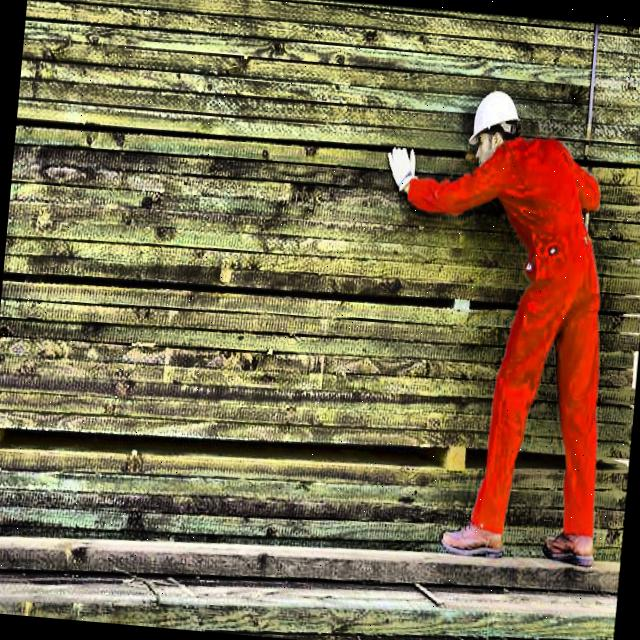helmet: (463, 84, 527, 173)
